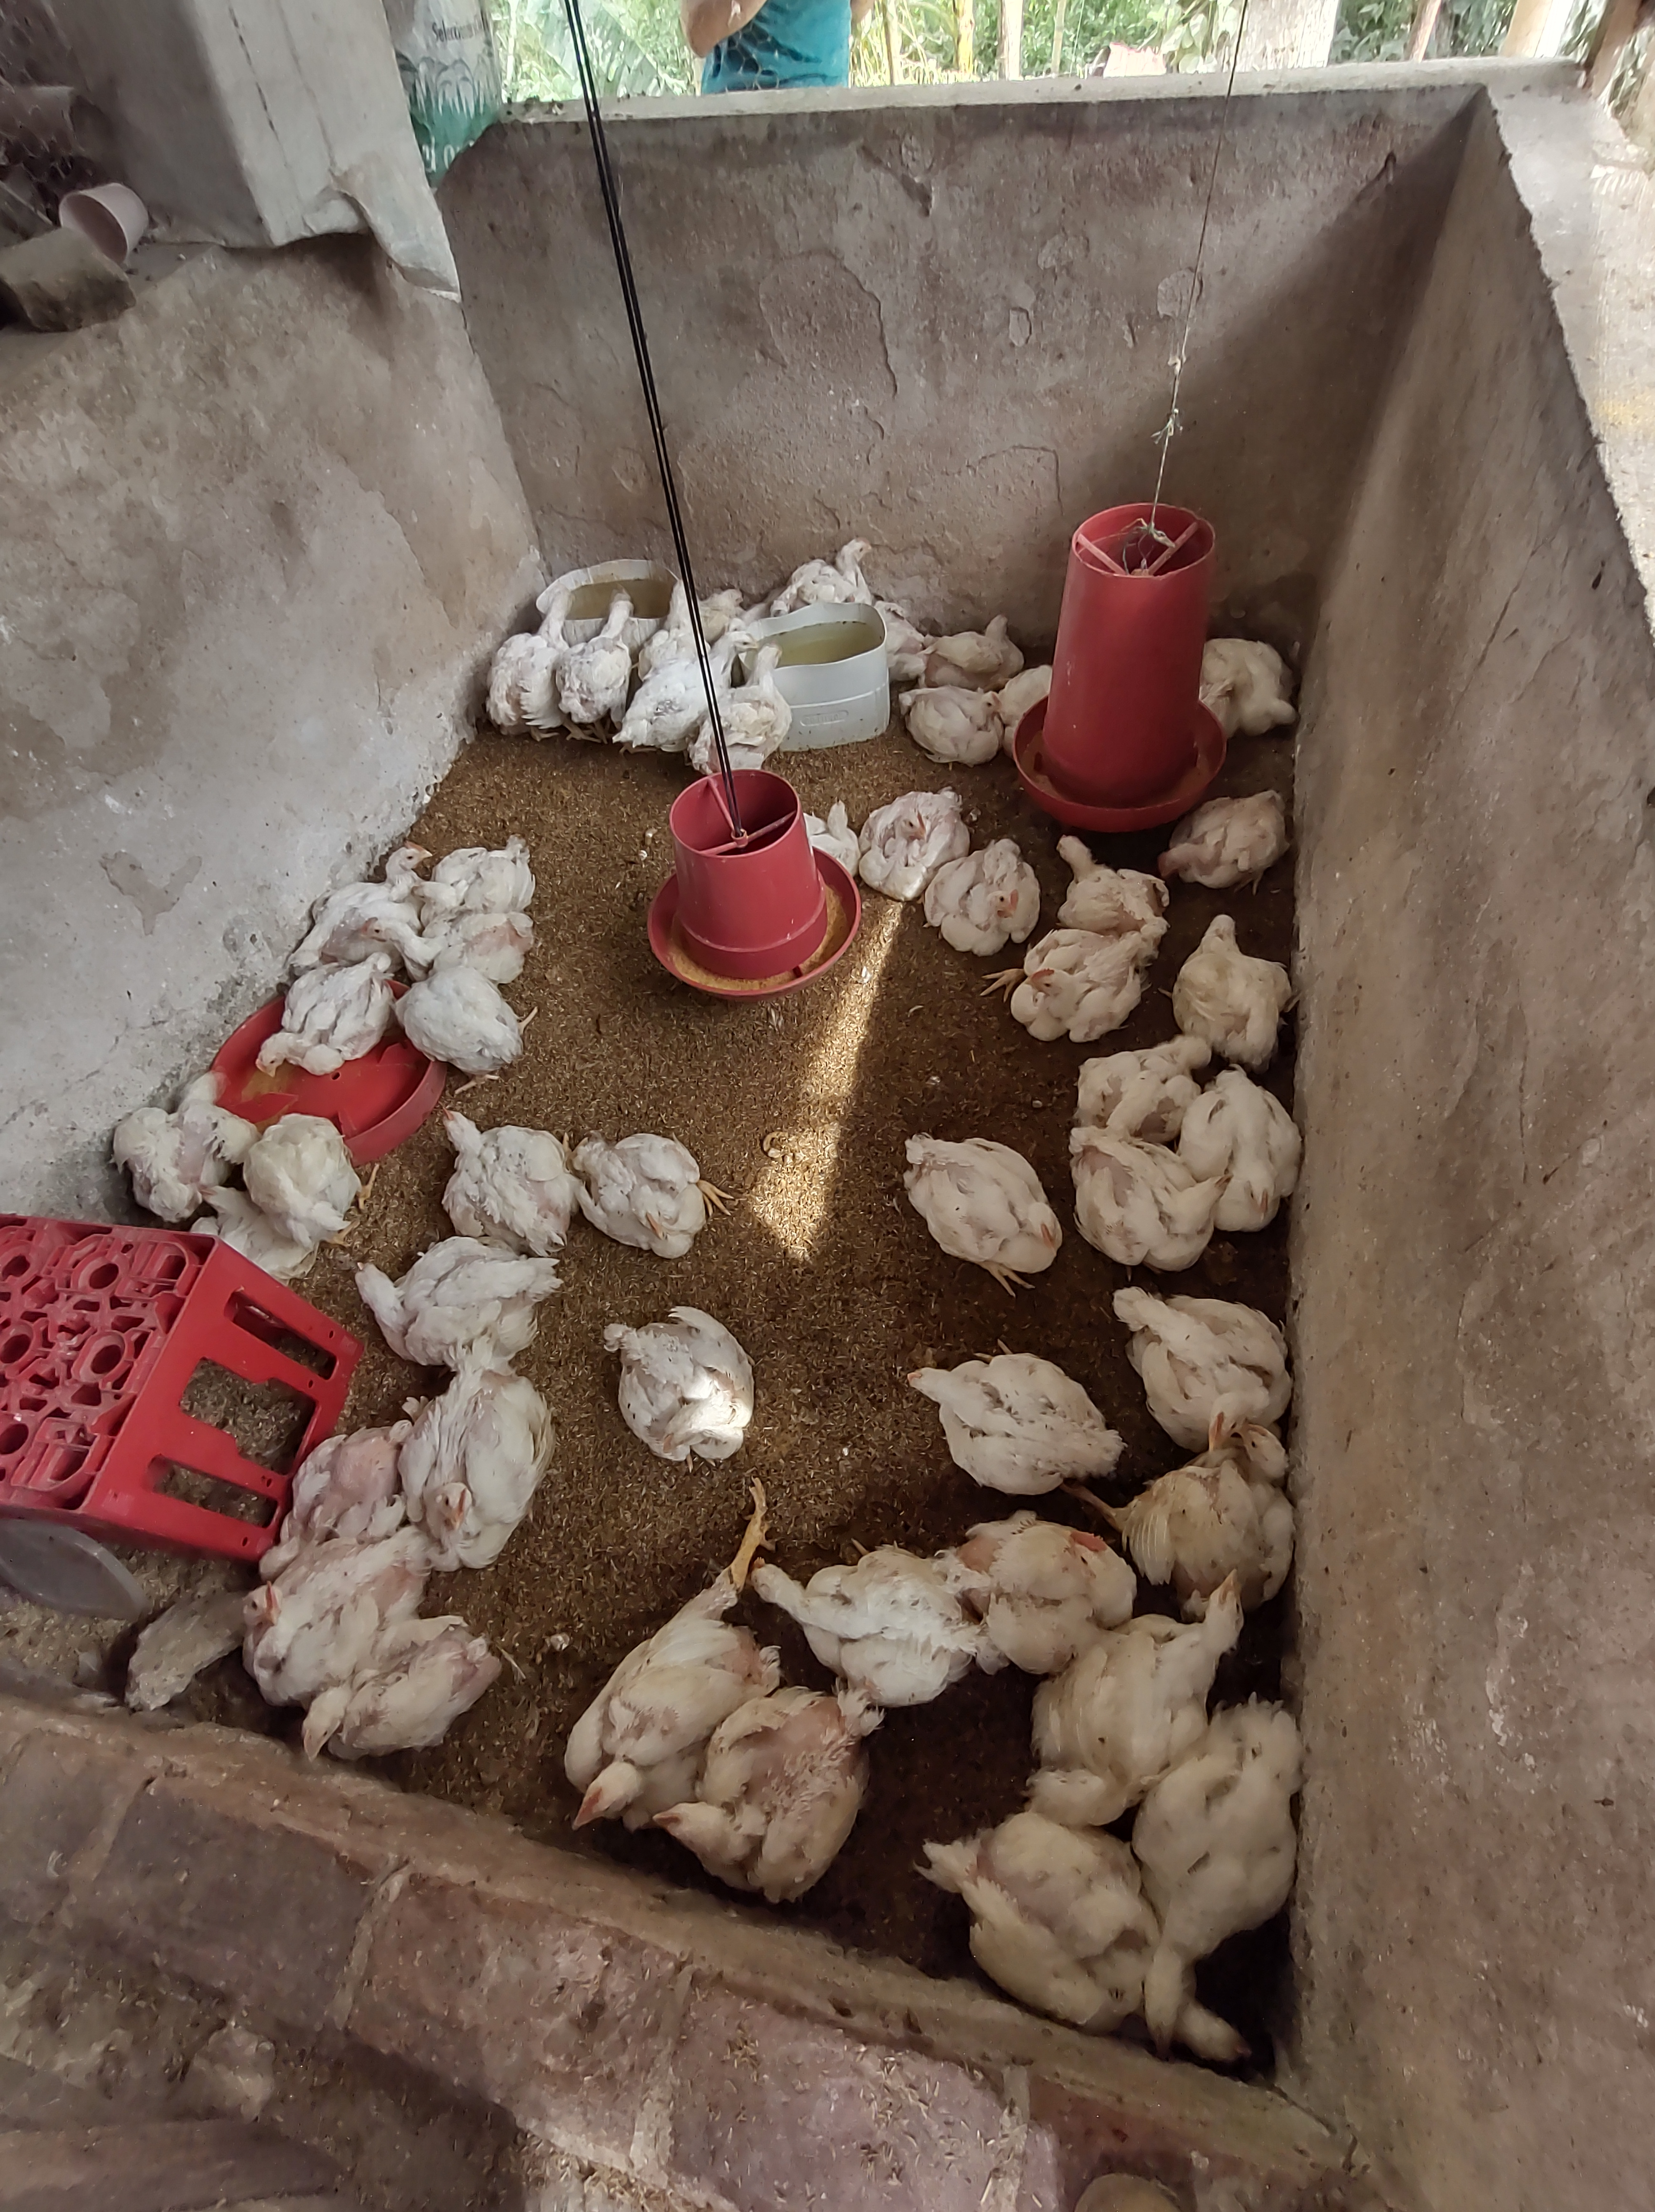Pollos: (956, 1816, 1245, 2066), (1057, 1565, 1257, 1810), (654, 1683, 874, 1890), (746, 1548, 1000, 1675), (247, 1525, 405, 1715), (409, 1363, 548, 1562), (1116, 1280, 1295, 1433), (911, 1353, 1132, 1476), (1132, 1421, 1292, 1586), (353, 1235, 568, 1353), (304, 1619, 471, 1770), (1067, 1123, 1234, 1261), (901, 1134, 1060, 1276), (254, 1410, 409, 1553), (614, 1306, 753, 1464), (977, 1506, 1139, 1638), (574, 1136, 713, 1257), (1177, 911, 1299, 1050), (1014, 929, 1160, 1040), (442, 1111, 567, 1238), (130, 1064, 229, 1219), (238, 1115, 358, 1240), (252, 958, 381, 1073), (1222, 1064, 1309, 1228), (567, 1668, 654, 1828), (1078, 1028, 1208, 1123), (489, 586, 577, 723), (1161, 788, 1281, 882), (409, 972, 520, 1066), (862, 793, 961, 896), (1052, 831, 1158, 925), (363, 903, 528, 962), (560, 588, 636, 715), (1205, 633, 1293, 739), (932, 845, 1026, 944), (629, 630, 711, 734), (727, 633, 788, 765), (904, 687, 1005, 763), (925, 610, 1026, 685), (788, 529, 876, 609), (339, 838, 422, 911)
